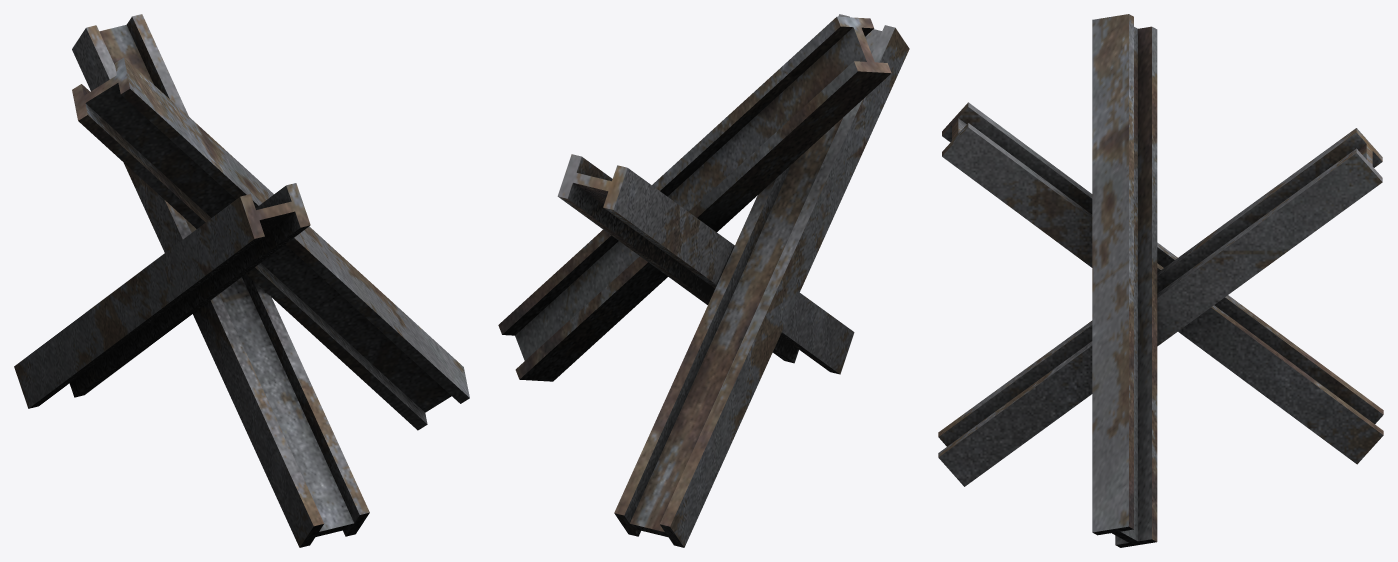
Rendered from roadblock_metal.fbx.
The picture shows the model from 3 angles, left to right: view 1: azimuth 30°, elevation 25°; view 2: azimuth 150°, elevation 25°; view 3: azimuth 270°, elevation 25°; orthographic projection. The views are drawn at different scales.
Parts seen in each view (by area): view 1: polySurface247; view 2: polySurface247; view 3: polySurface247.
Boxes of the visible parts, bbox=[...] form: polySurface247: bbox=[14, 14, 469, 547]; polySurface247: bbox=[498, 14, 909, 547]; polySurface247: bbox=[938, 14, 1383, 547].
Size of the model in its own units: 158 by 174 by 170.
